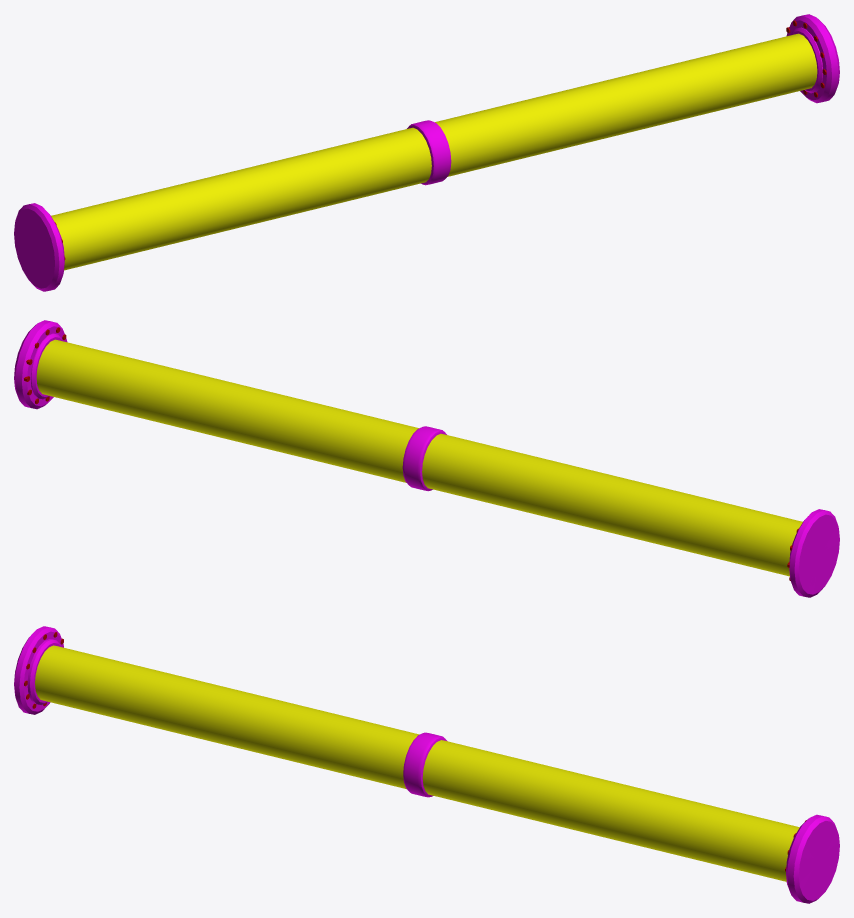
File: LongModularPipe.fbx
3 views of the same model, one above another, from view 1: azimuth 30°, elevation 25°; view 2: azimuth 150°, elevation 25°; view 3: azimuth 330°, elevation 25° (orthographic).
Visible parts, largest first — view 1: Pipe, LongModularPipe_Inner1, LongModularPipe_Inner, Grip; view 2: Pipe, LongModularPipe_Inner1, LongModularPipe_Inner, Grip; view 3: Pipe, LongModularPipe_Inner, LongModularPipe_Inner1, Grip.
Boxes of the visible parts, box(x1,y1,x2,y2) form: Pipe: box(51, 33, 817, 270); LongModularPipe_Inner1: box(14, 203, 64, 291); LongModularPipe_Inner: box(786, 14, 839, 103); Grip: box(407, 120, 451, 185); Pipe: box(36, 339, 802, 576); LongModularPipe_Inner1: box(789, 509, 839, 597); LongModularPipe_Inner: box(14, 320, 67, 409); Grip: box(402, 426, 446, 491); Pipe: box(35, 645, 799, 881); LongModularPipe_Inner: box(786, 814, 839, 903); LongModularPipe_Inner1: box(14, 626, 63, 714); Grip: box(403, 732, 447, 797).
Bounding box in the file's own units: 799 × 79.2 × 79.2.
